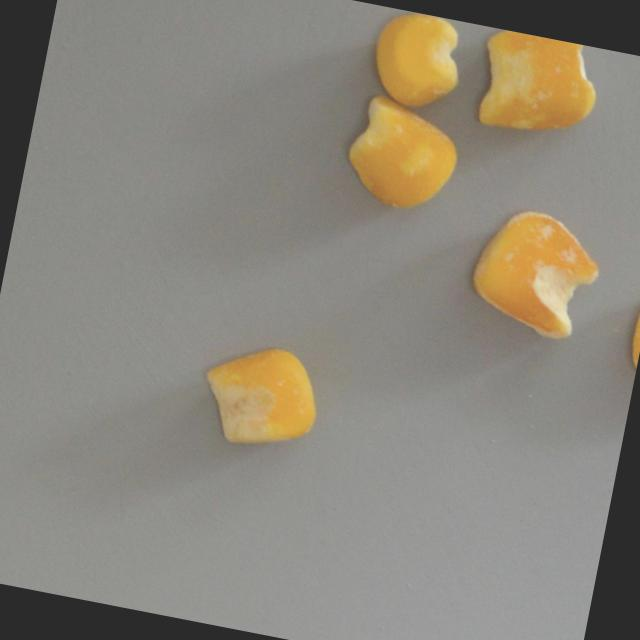no_desgerminado: (191, 334, 330, 461)
pelicula: (454, 196, 615, 350), (465, 26, 609, 150), (335, 90, 468, 222), (363, 6, 472, 117), (620, 283, 640, 389)
